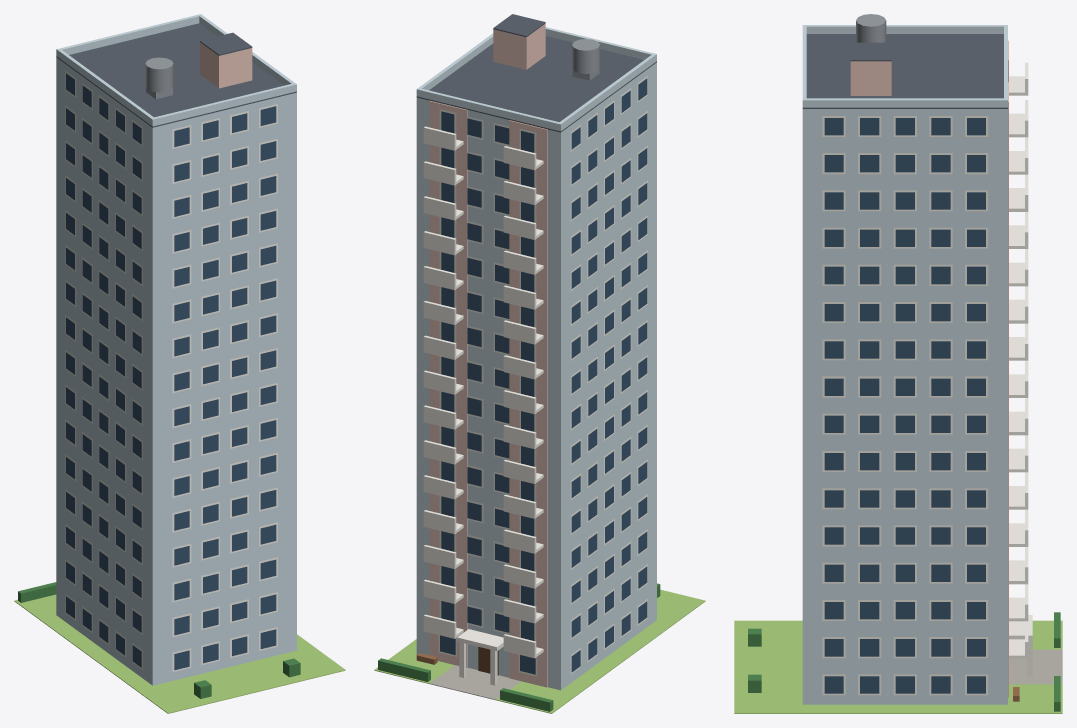
The picture shows the model from 3 angles, left to right: view 1: azimuth 30°, elevation 25°; view 2: azimuth 150°, elevation 25°; view 3: azimuth 270°, elevation 25°; orthographic projection. The views are drawn at different scales.
Parts seen in each view (by area): view 1: wall, roof (×2), lawn (×2), parapet (×4), lift_room, water_tank; view 2: wall, balcony (×30), panel (×2), roof (×2), lawn (×3), parapet (×4), lift_room, paving, hedge (×2), water_tank, canopy; view 3: wall, roof (×2), lawn (×3), parapet (×2), paving, lift_room, water_tank, panel.
Boxes of the visible parts, x1,y1,x2,y2 form: wall: (56,57,296,685); roof (×2): (56,23,296,127); lawn (×2): (14,594,345,713); parapet (×4): (56,14,296,126); lift_room: (200,42,252,88); water_tank: (145,57,173,92); wall: (416,62,656,690); balcony (×30): (423,126,543,658); panel (×2): (429,100,547,687); roof (×2): (416,14,656,132); lawn (×3): (374,589,705,713); parapet (×4): (416,27,656,131); lift_room: (493,23,545,69); paving: (429,665,520,700); hedge (×2): (378,658,553,711); water_tank: (572,39,600,73); canopy: (457,629,503,650); wall: (802,109,1007,704); roof (×2): (802,34,1007,108); lawn (×3): (734,620,1062,713); parapet (×2): (806,25,1003,107); paving: (1009,649,1062,684); lift_room: (850,61,891,95); water_tank: (856,14,886,42); panel: (1008,82,1008,697).
Bounding box in the file's own units: 16 × 51.06 × 24.
